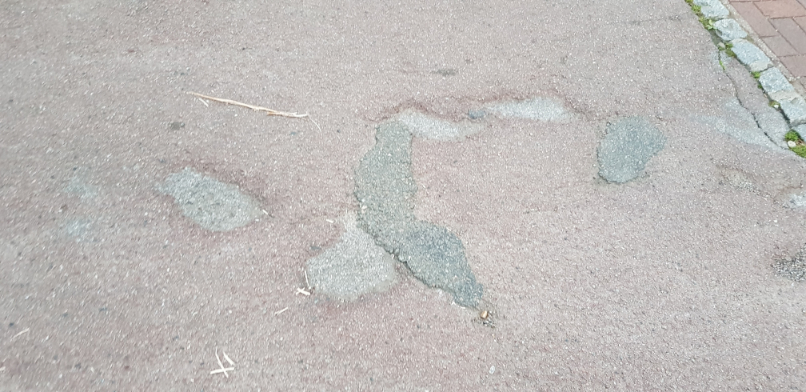pothole: (294, 199, 407, 305), (151, 157, 274, 236), (375, 97, 479, 141), (477, 92, 590, 125)
